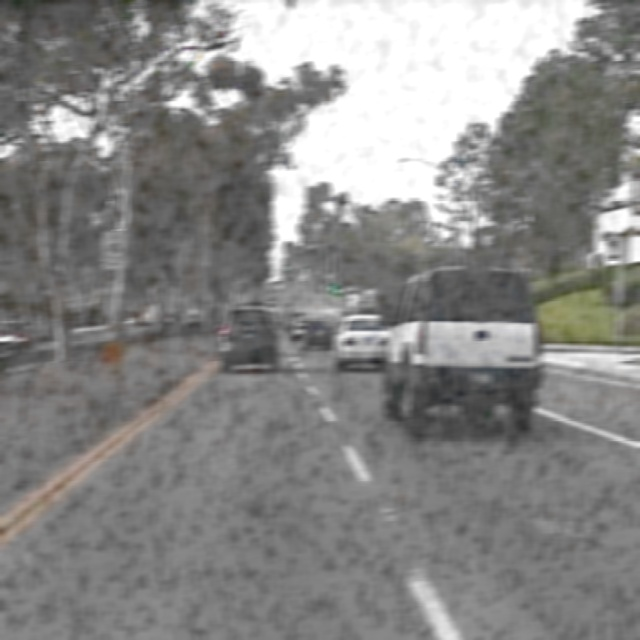speedLimit45: (100, 226, 126, 272)
